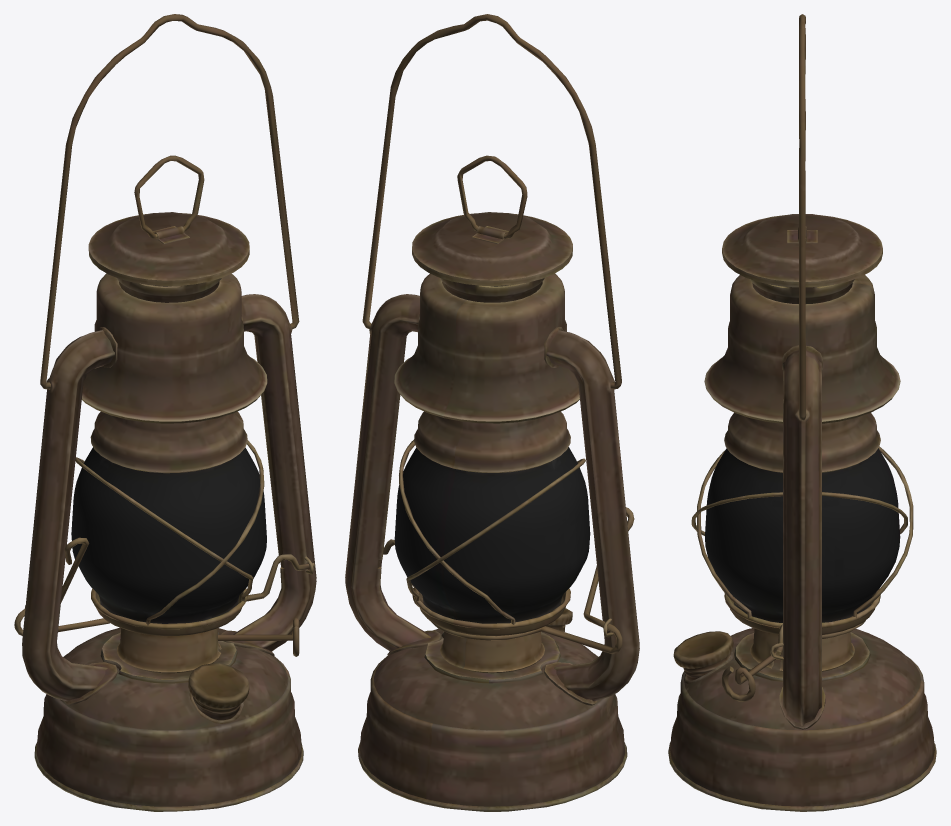
File: ph-Lantern_01.glb
3 renders of one model, left to right at view 1: azimuth 30°, elevation 25°; view 2: azimuth 150°, elevation 25°; view 3: azimuth 270°, elevation 25°, orthographic.
Parts seen in each view (by area): view 1: Lantern_01, Lantern_01_glass; view 2: Lantern_01, Lantern_01_glass; view 3: Lantern_01, Lantern_01_glass.
Boxes of the visible parts, box(x1,y1,x2,y2) form: Lantern_01: box(14, 14, 316, 811); Lantern_01_glass: box(71, 447, 266, 623); Lantern_01: box(345, 14, 639, 811); Lantern_01_glass: box(394, 447, 590, 623); Lantern_01: box(668, 14, 936, 811); Lantern_01_glass: box(705, 448, 900, 622).
Size of the model in its own units: 0.1221 by 0.2942 by 0.097.
2 materials, 2 textured.
